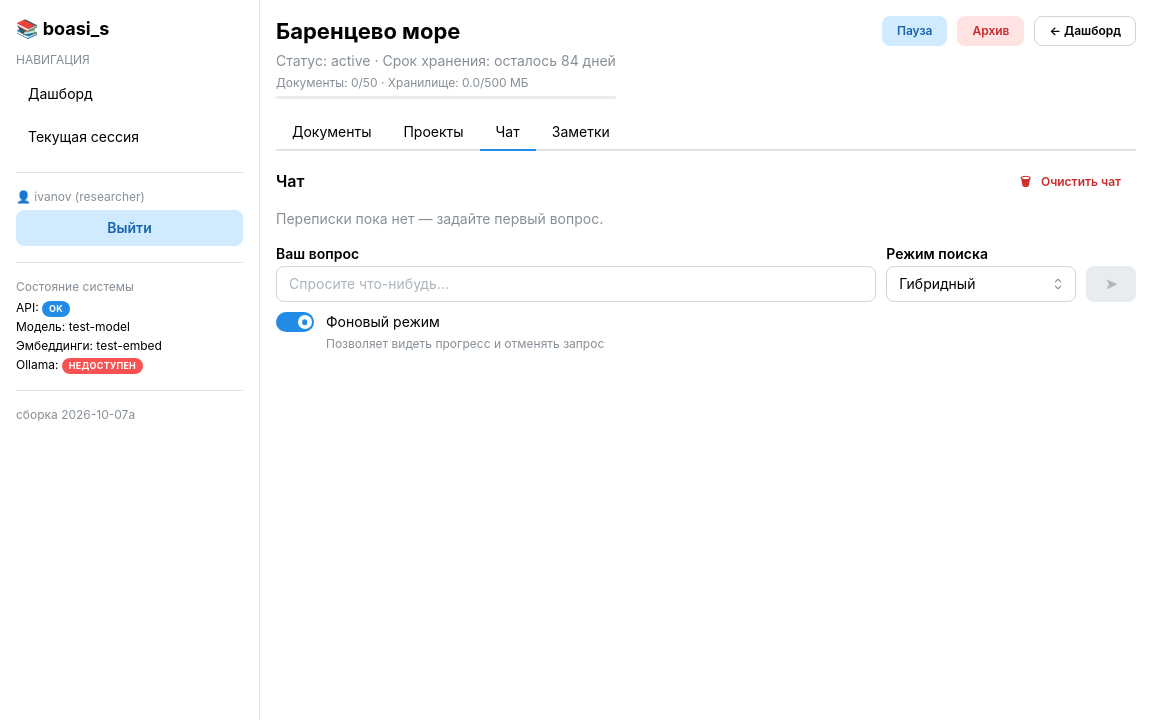
Test: чат: синхронный режим и очистка › ошибка отправки возвращает текст в поле и показывает alert
Type "вопрос в архив" into the field labelled "Ваш вопрос" at [576, 284], box [276,266,876,302]
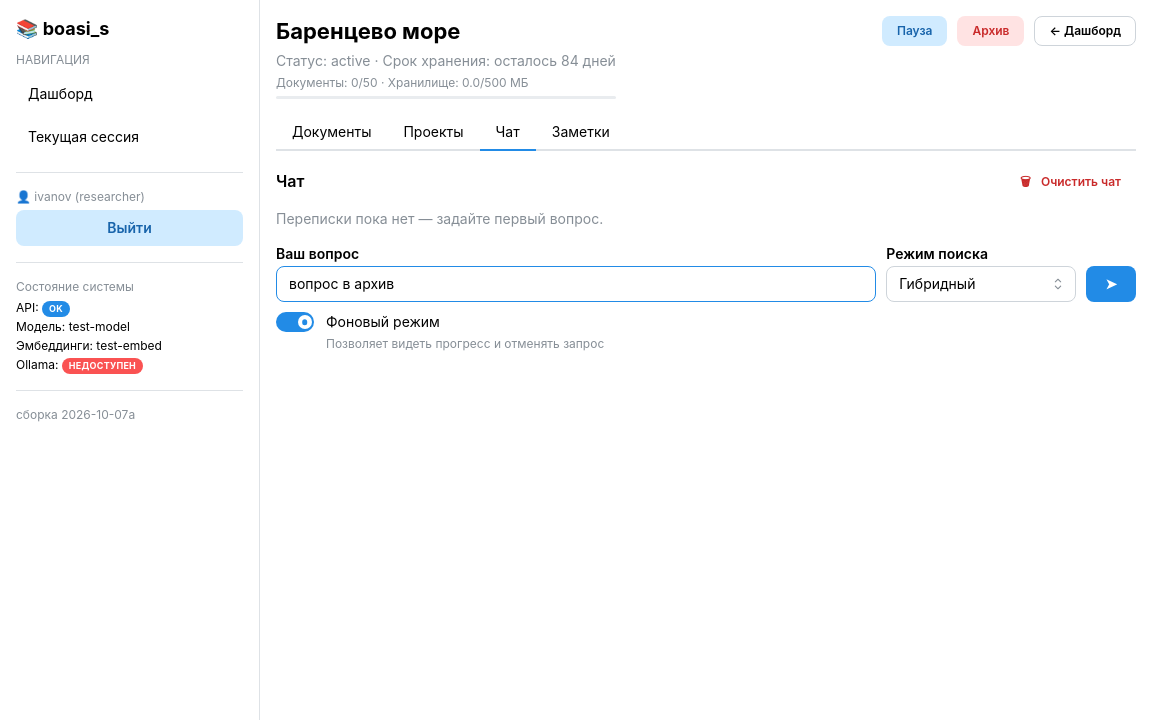
Click the button "➤" at [1111, 284], box [1086,266,1136,302]
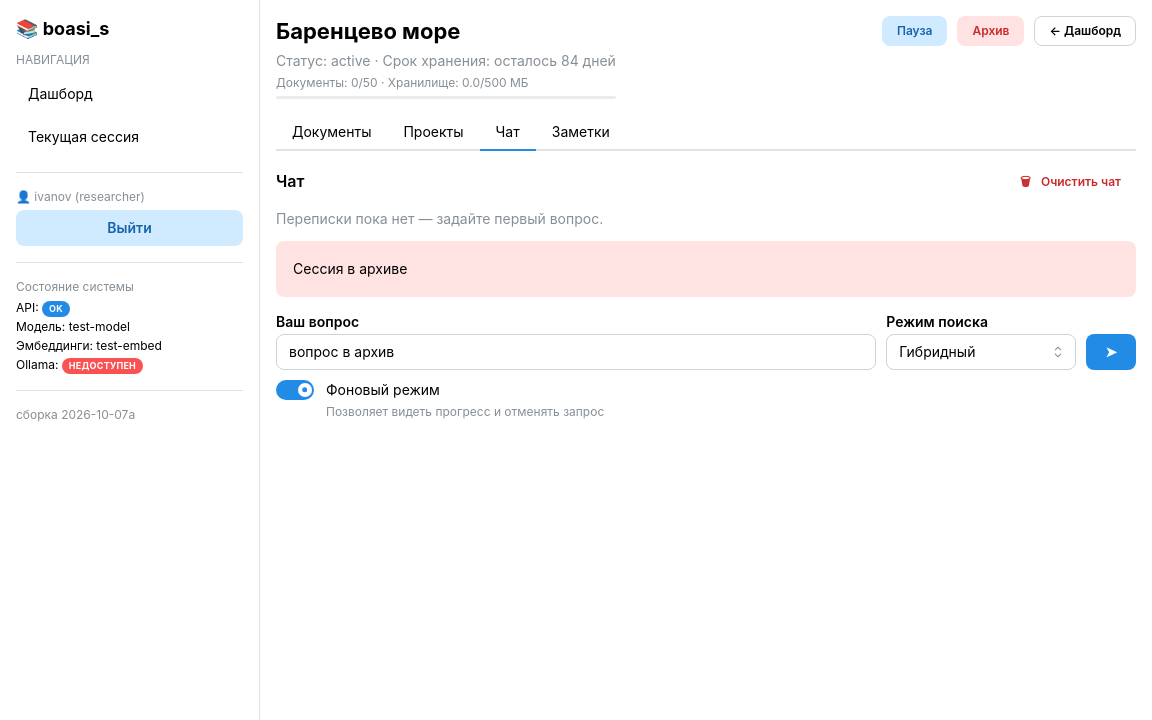
Result: the message reads "Сессия в архиве" at [293,260,407,277]
